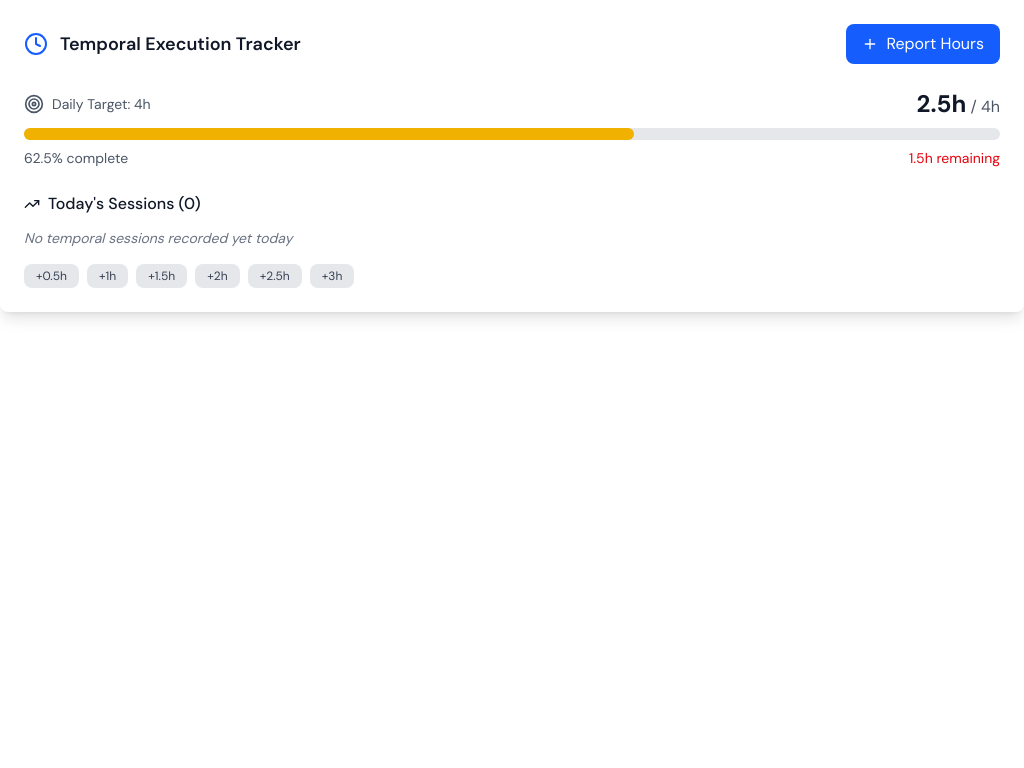
Test: TemporalTracker › should use quick report buttons correctly
The image size is (1024, 768).
// Click +2h quick button
Click the button "+2h": (217, 276) 195,264 -> 240,288
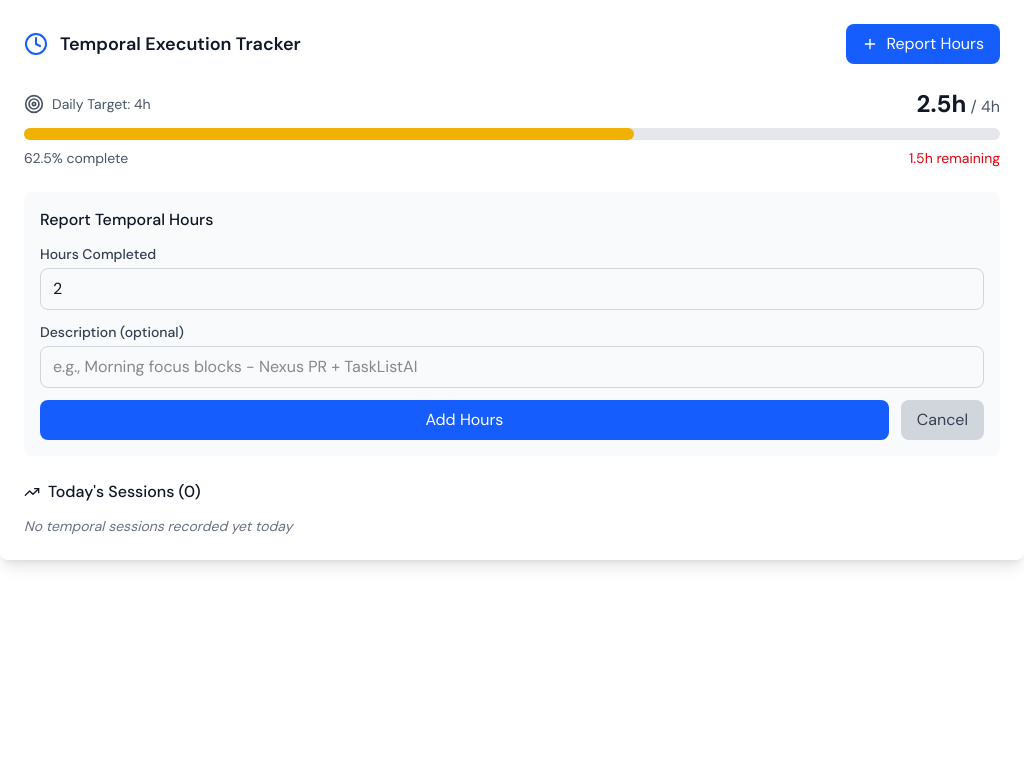
Expected: the number field showing "2" is shown, 40,268 -> 984,310
Expected: the heading "Report Temporal Hours" is shown, 40,209 -> 213,230
